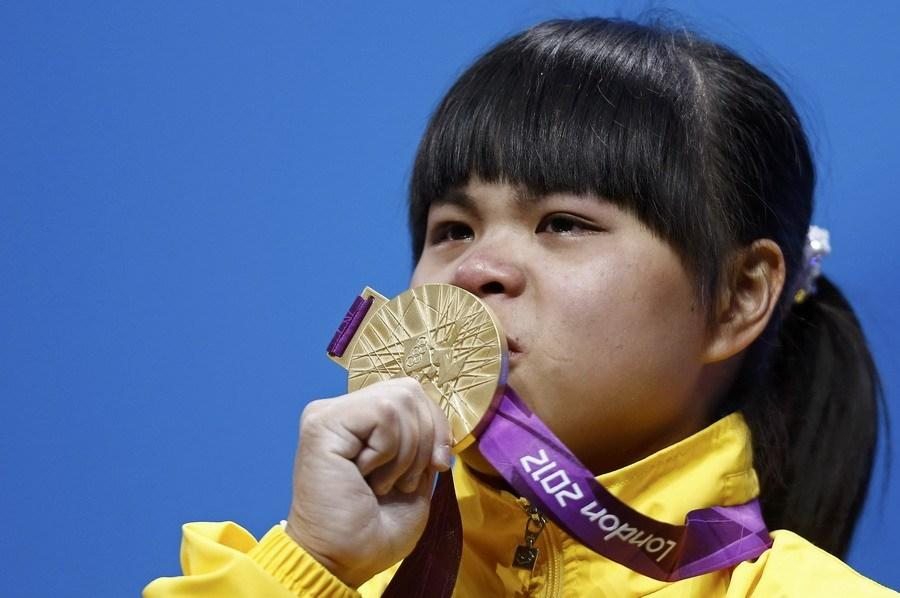face: (408, 128, 671, 449)
